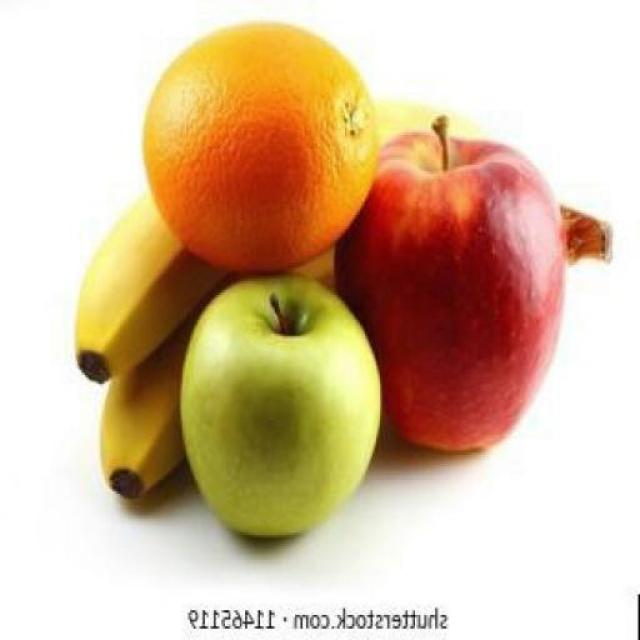Apple: (334, 115, 567, 456), (180, 272, 378, 538)
Banana: (100, 245, 333, 499), (78, 184, 230, 381)
Orange: (143, 20, 379, 269)
